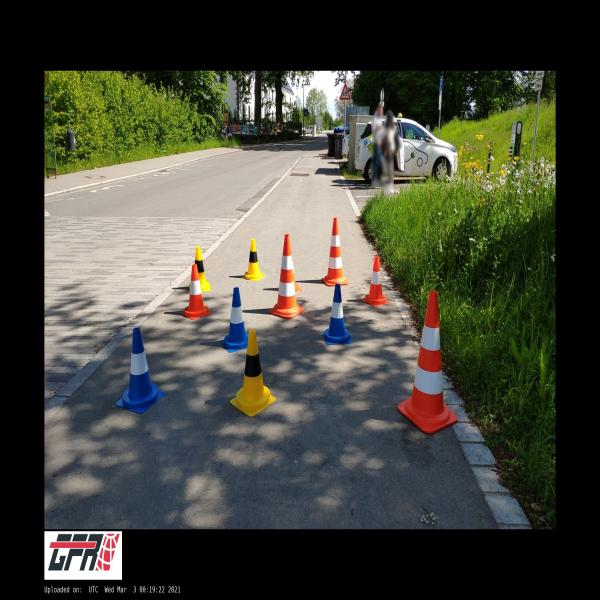blue_cone: (116, 328, 165, 413), (323, 284, 352, 344), (221, 288, 248, 352)
large_orange_cone: (398, 291, 457, 434), (271, 235, 304, 320), (321, 218, 348, 286)
orange_cone: (180, 264, 212, 320), (362, 256, 390, 306), (291, 248, 302, 292)
yellow_cone: (230, 330, 276, 417), (241, 239, 266, 281), (189, 246, 210, 291)
